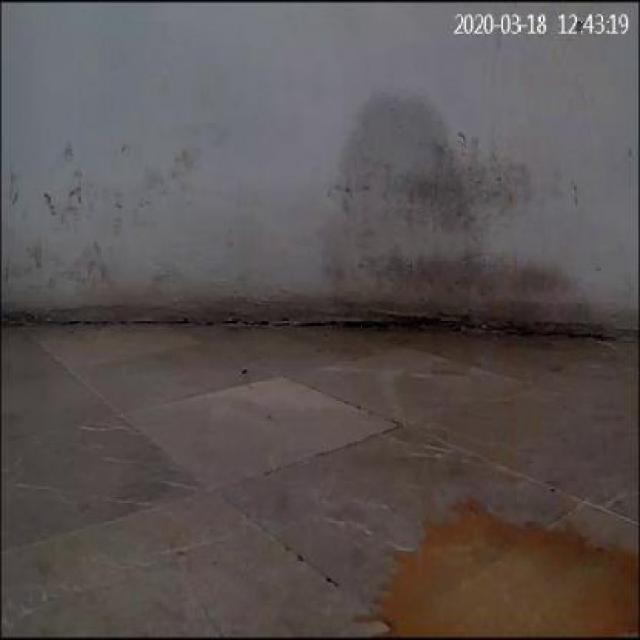spill: (380, 493, 632, 635)
